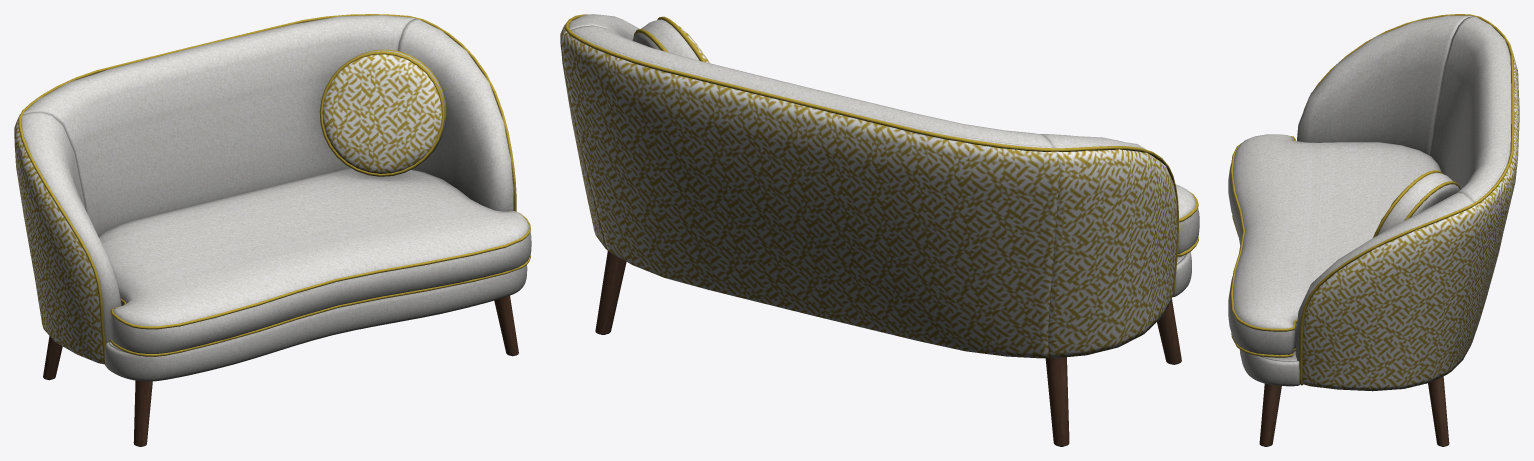
The model's file is gertie_2_seater_sofa_dufrene_moss_velvet.glb.
The picture shows the model from 3 angles, left to right: view 1: azimuth 30°, elevation 25°; view 2: azimuth 150°, elevation 25°; view 3: azimuth 270°, elevation 25°; orthographic projection. The views are drawn at different scales.
Parts seen in each view (by area): view 1: FABRIC001, FABRIC_PATTERN001, VELVET001, WOOD001; view 2: FABRIC_PATTERN001, FABRIC001, WOOD001, VELVET001; view 3: FABRIC001, FABRIC_PATTERN001, VELVET001, WOOD001.
Part boxes in pixels (box(x1,y1,x2,y2)): FABRIC001: box(21, 15, 531, 381); FABRIC_PATTERN001: box(14, 54, 441, 364); VELVET001: box(18, 14, 530, 365); WOOD001: box(43, 295, 518, 446); FABRIC_PATTERN001: box(560, 24, 1177, 358); FABRIC001: box(569, 14, 1199, 297); WOOD001: box(595, 251, 1181, 446); VELVET001: box(565, 14, 1198, 296); FABRIC001: box(1228, 15, 1511, 386); FABRIC_PATTERN001: box(1302, 42, 1519, 391); VELVET001: box(1230, 14, 1514, 385); WOOD001: box(1259, 376, 1449, 446).
Size of what is drawn, in the model's own units: 140 by 77.89 by 79.83.
Materials: 5 (5 with a texture image).
